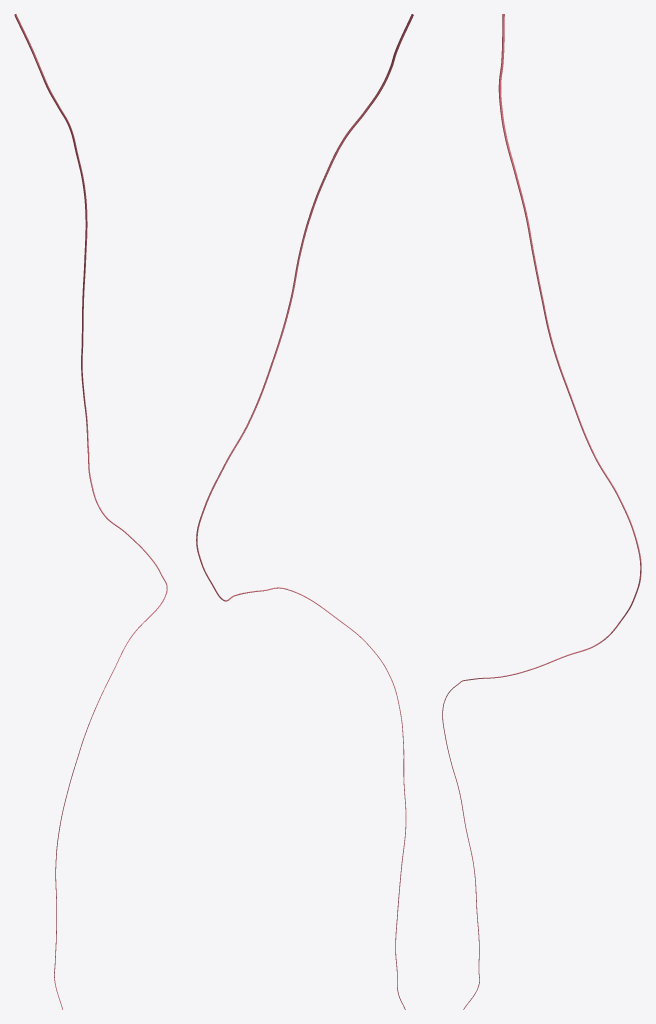
3 views of the same model, side by side, from view 1: azimuth 30°, elevation 25°; view 2: azimuth 150°, elevation 25°; view 3: azimuth 270°, elevation 25° (orthographic). The views are drawn at different scales.
Visible parts, largest first — view 1: ZA_e9639835f28015bc; view 2: ZA_e9639835f28015bc; view 3: ZA_e9639835f28015bc.
Part boxes in pixels (bbox=[...]): ZA_e9639835f28015bc: bbox=[14, 14, 167, 1009]; ZA_e9639835f28015bc: bbox=[196, 14, 413, 1009]; ZA_e9639835f28015bc: bbox=[442, 14, 641, 1009].
Size of the model in its own units: 0.0594 by 0.3767 by 0.0692.
